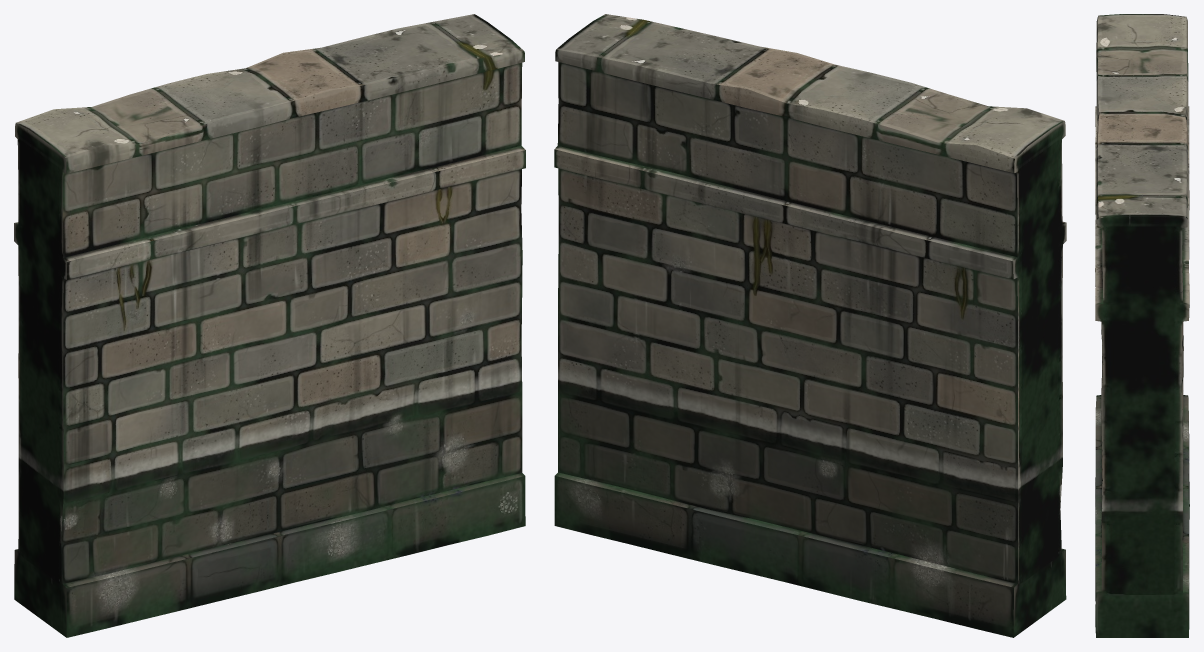
File: drowned_wall_c.glb
3 views of the same model, side by side, from view 1: azimuth 30°, elevation 25°; view 2: azimuth 150°, elevation 25°; view 3: azimuth 270°, elevation 25° (orthographic). The views are drawn at different scales.
Parts seen in each view (by area): view 1: drowned_wall_c; view 2: drowned_wall_c; view 3: drowned_wall_c.
Boxes of the visible parts, x1,y1,x2,y2 form: drowned_wall_c: (14, 14, 525, 637); drowned_wall_c: (554, 14, 1066, 637); drowned_wall_c: (1095, 14, 1189, 637).
Bounding box in the file's own units: 4 × 4.02 × 0.8077.
Materials: 1 (1 with a texture image).
